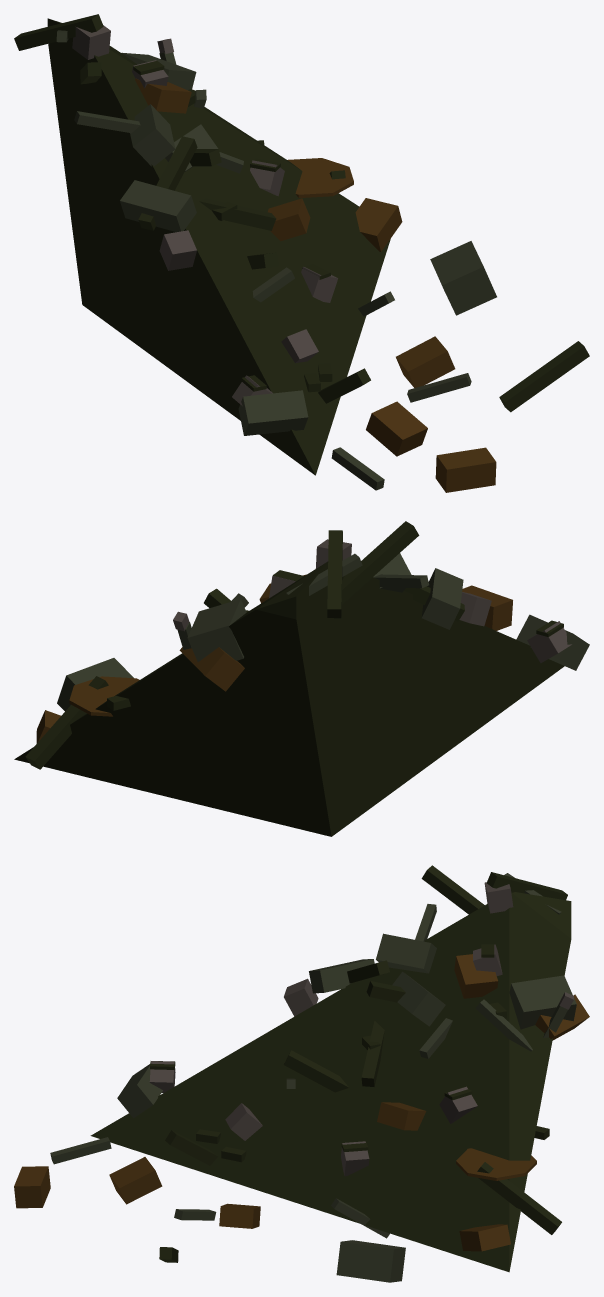
Rendered from SM_PilaZombi_RemateDer_Altura5_s0_LOD0.fbx.
3 views of the same model, one above another, from view 1: azimuth 30°, elevation 25°; view 2: azimuth 150°, elevation 25°; view 3: azimuth 270°, elevation 25° (orthographic). The views are drawn at different scales.
Visible parts, largest first — view 1: SM_pila_zombis_v4_LOD0; view 2: SM_pila_zombis_v4_LOD0; view 3: SM_pila_zombis_v4_LOD0.
Boxes of the visible parts, <box> form: SM_pila_zombis_v4_LOD0: <box>14,14,589,492</box>; SM_pila_zombis_v4_LOD0: <box>14,521,589,836</box>; SM_pila_zombis_v4_LOD0: <box>14,865,589,1282</box>.
Size of the model in its own units: 3.56 by 2.81 by 5.12.
